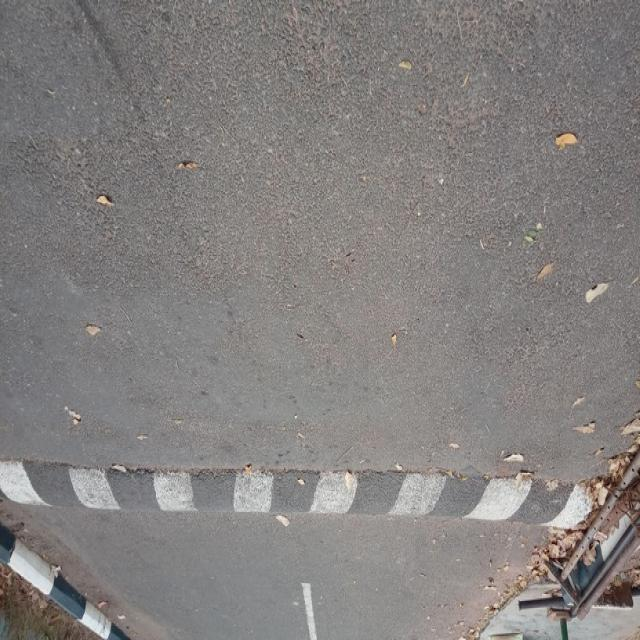Marked Bump: (6, 442, 596, 543)
